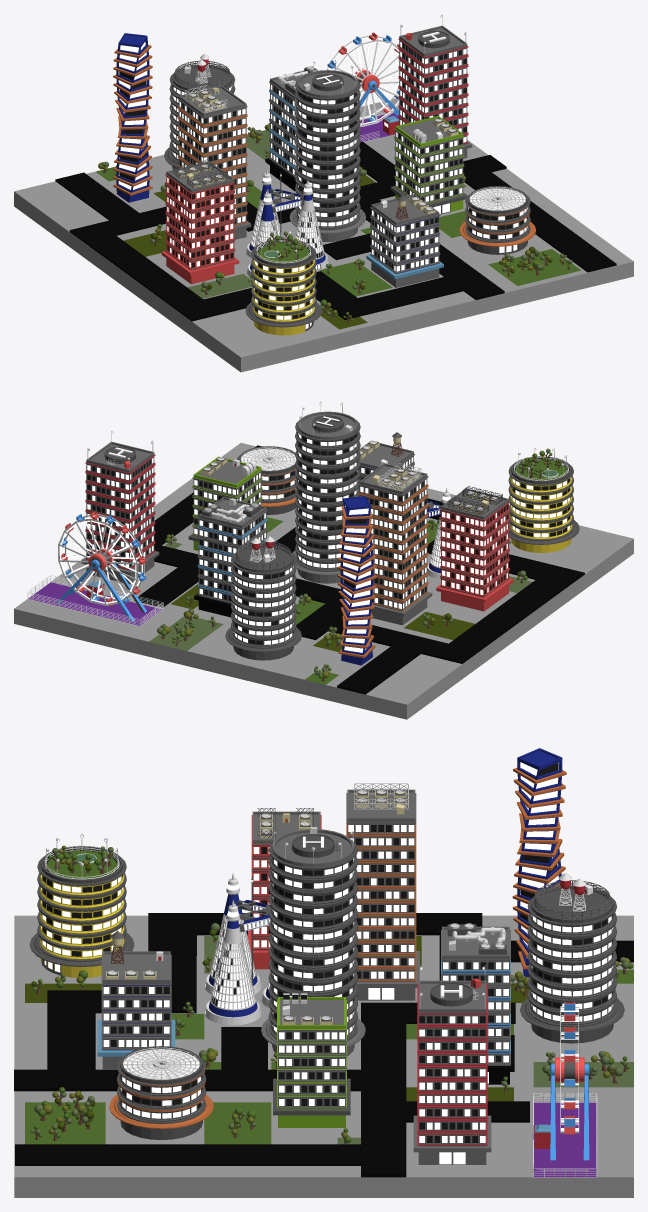
File: isometric-cityscape.glb
3 renders of one model, top to bottom at view 1: azimuth 30°, elevation 25°; view 2: azimuth 150°, elevation 25°; view 3: azimuth 270°, elevation 25°, orthographic. The views are drawn at different scales.
Parts seen in each view (by area): view 1: CityBase, CityBase.001, CircleBuildFloors.001, Cube.001, SquareBuildFloors.004, SquareBuildFloors.007, SquareBuildFloors.002, SquareBuildFloors.003, CircleBuildFloors.003, SquareBuildFloors.005, Cone.002, SquareBuildFloors.006 (+23 smaller); view 2: CityBase, CityBase.001, CircleBuildFloors.001, SquareBuildFloors.002, SquareBuildFloors.007, SquareBuildFloors.004, Cube.001, CircleBuildFloors.004, CircleBuildFloors.003, SquareBuildFloors.006, FerrisMainWheel, SquareBuildFloors.003 (+26 smaller); view 3: CityBase, CityBase.001, CircleBuildFloors.001, SquareBuildFloors.002, SquareBuildFloors.007, CircleBuildFloors.004, Cube.001, CircleBuildFloors.003, Cone.002, SquareBuildFloors.003, SquareBuildFloors.005, CircleBuildFloors.002 (+28 smaller).
Boxes of the visible parts, x1,y1,x2,y2 form: CityBase: [14, 98, 633, 372]; CityBase.001: [55, 141, 616, 321]; CircleBuildFloors.001: [295, 78, 360, 230]; Cube.001: [113, 33, 152, 202]; SquareBuildFloors.004: [165, 174, 235, 270]; SquareBuildFloors.007: [398, 38, 468, 144]; SquareBuildFloors.002: [177, 98, 247, 226]; SquareBuildFloors.003: [394, 129, 464, 203]; CircleBuildFloors.003: [251, 247, 316, 323]; SquareBuildFloors.005: [370, 207, 440, 274]; Cone.002: [246, 169, 328, 276]; SquareBuildFloors.006: [269, 81, 296, 177]; CityBase: [14, 443, 633, 719]; CityBase.001: [134, 445, 584, 694]; CircleBuildFloors.001: [295, 420, 360, 571]; SquareBuildFloors.002: [358, 476, 428, 611]; SquareBuildFloors.007: [85, 454, 155, 570]; SquareBuildFloors.004: [440, 501, 509, 597]; Cube.001: [337, 496, 376, 665]; CircleBuildFloors.004: [231, 553, 296, 648]; CircleBuildFloors.003: [508, 464, 573, 541]; SquareBuildFloors.006: [197, 510, 267, 603]; FerrisMainWheel: [58, 513, 144, 605]; SquareBuildFloors.003: [192, 469, 262, 536]; CityBase: [14, 915, 633, 1197]; CityBase.001: [14, 913, 633, 1177]; CircleBuildFloors.001: [268, 840, 357, 1040]; SquareBuildFloors.002: [346, 793, 416, 981]; SquareBuildFloors.007: [417, 984, 487, 1146]; CircleBuildFloors.004: [527, 897, 616, 1027]; Cube.001: [512, 748, 566, 976]; CircleBuildFloors.003: [37, 856, 126, 961]; Cone.002: [204, 873, 270, 1025]; SquareBuildFloors.003: [277, 1000, 346, 1109]; SquareBuildFloors.005: [101, 954, 171, 1050]; CircleBuildFloors.002: [117, 1057, 206, 1123].
Size of the model in its own units: 9.8 by 4.11 by 9.8.
